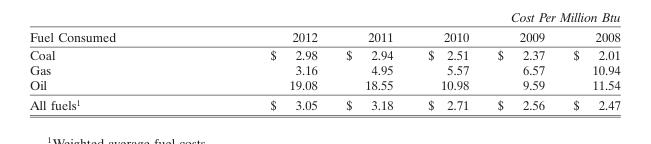table: (28, 29, 619, 112)
table column: (28, 29, 192, 112), (192, 29, 330, 112), (330, 29, 409, 112), (482, 29, 558, 112), (409, 29, 482, 112), (558, 29, 619, 112)
table column header: (28, 29, 619, 45)
table row: (28, 94, 619, 112), (28, 45, 619, 62), (28, 77, 619, 94), (28, 29, 619, 45), (28, 62, 619, 77)
